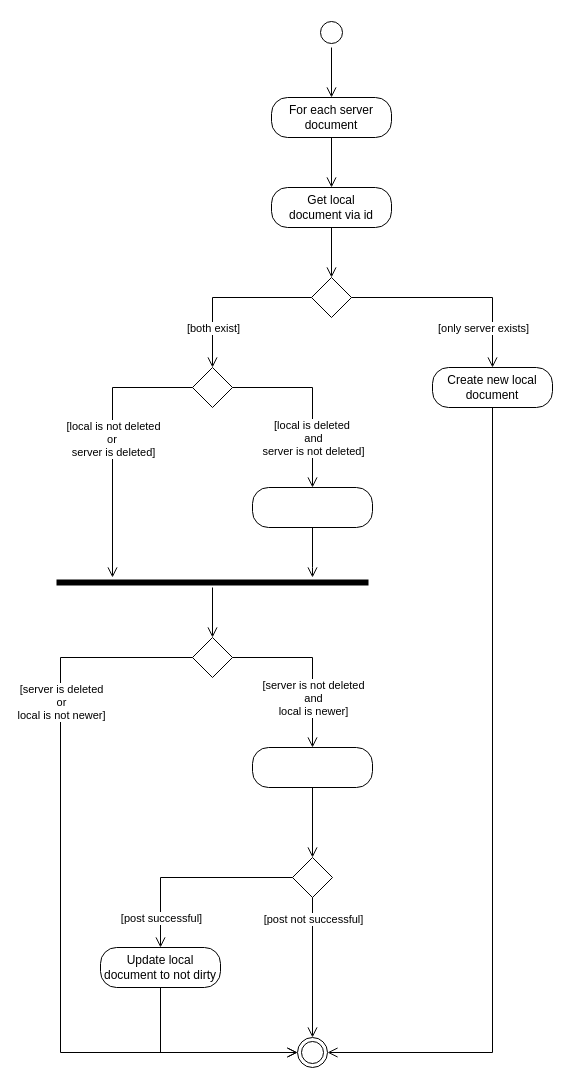
This 570x1085 diagram has some shape labels left out. Each missing label, with the centre of its shape:
"Delete server document" belongs at (x=312, y=507).
"Update server document" belongs at (x=312, y=767).
